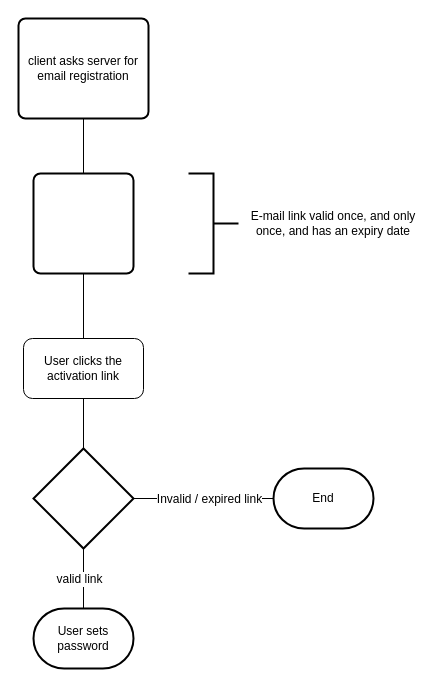
Image size: 435x686. Some labels were removed from this diagram. The box of each missing label's shape, as (x1, y1, x2, y2) in pixels:
Client validates activation link: (32, 447, 134, 549)
Server emits activation e-mail: (32, 172, 134, 274)
